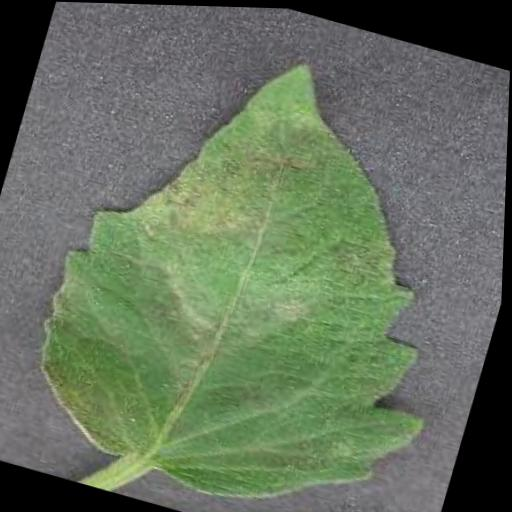Late Blight: (9, 13, 512, 512)
